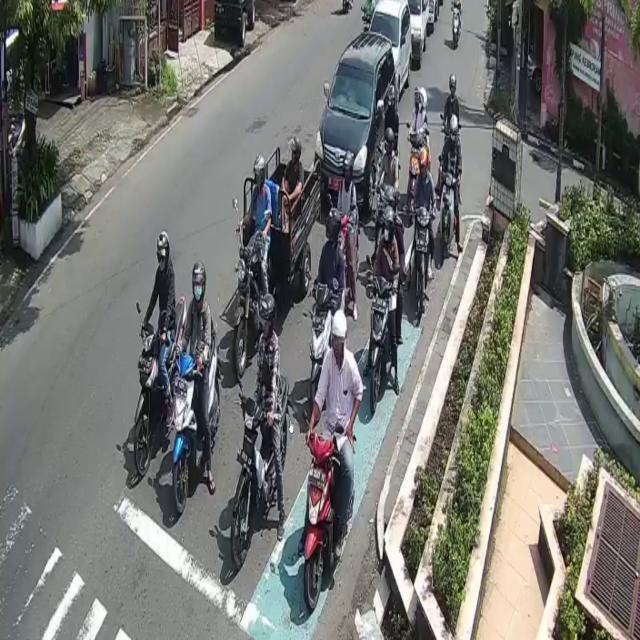car: (314, 30, 396, 216), (369, 0, 412, 91)
motorbike: (230, 376, 290, 572), (172, 327, 221, 517), (304, 430, 342, 616), (132, 320, 170, 477), (232, 246, 273, 367), (306, 285, 328, 418), (371, 266, 392, 399), (413, 202, 435, 323), (440, 171, 457, 263)
